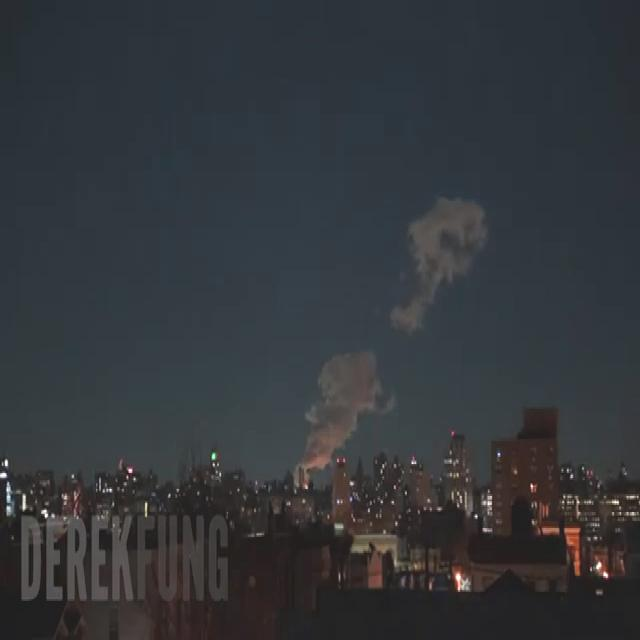smoke: (293, 350, 394, 485)
